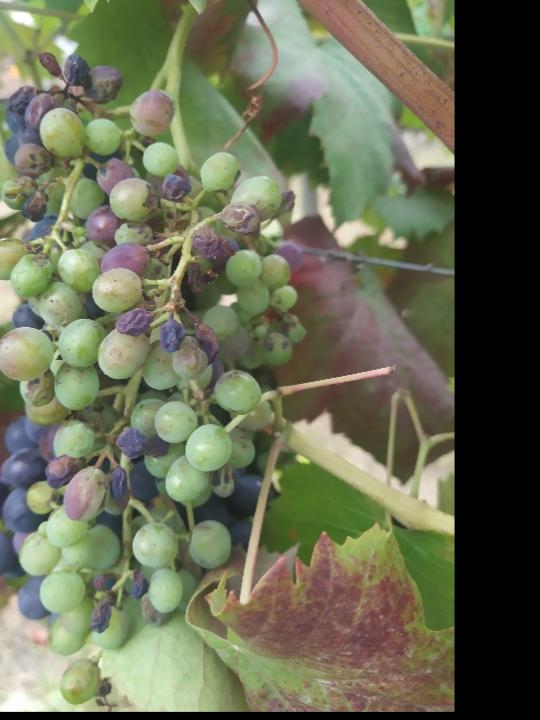grape: (0, 50, 304, 705)
